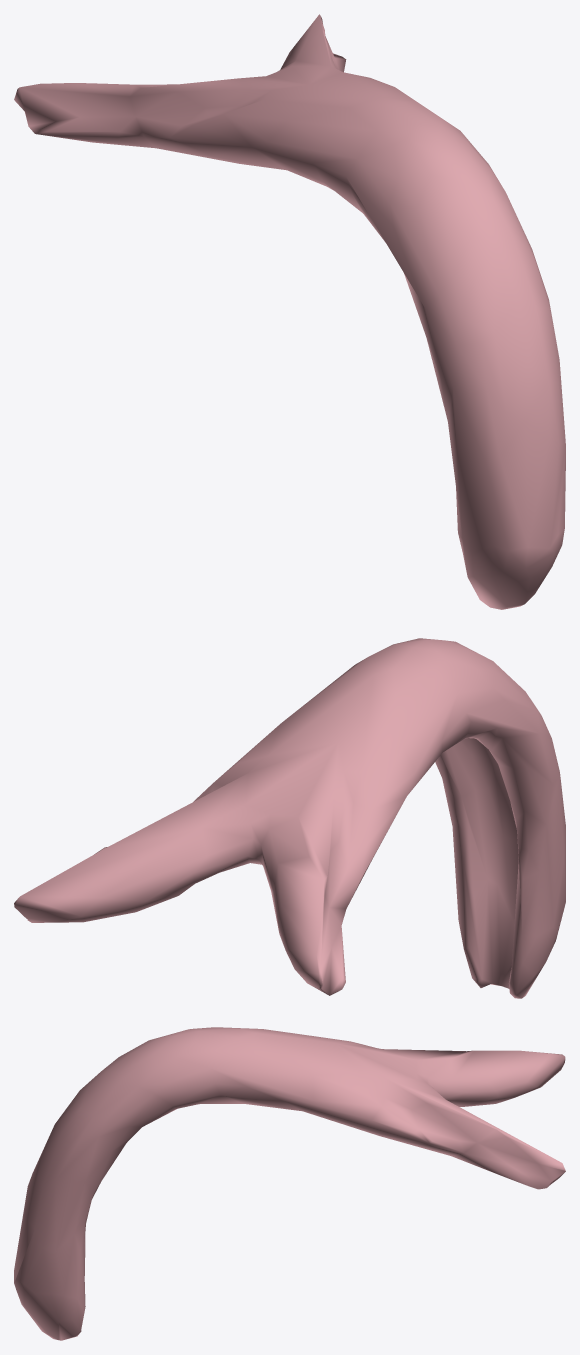
Rendered from visceras-corpus-cavernosum-of-penis.glb.
The picture shows the model from 3 angles, top to bottom: view 1: azimuth 30°, elevation 25°; view 2: azimuth 150°, elevation 25°; view 3: azimuth 270°, elevation 25°; orthographic projection. The views are drawn at different scales.
Parts seen in each view (by area): view 1: Corpus cavernosum of penis; view 2: Corpus cavernosum of penis; view 3: Corpus cavernosum of penis.
Part boxes in pixels (x1,y1,x2,y2): Corpus cavernosum of penis: (14, 14, 565, 609); Corpus cavernosum of penis: (14, 638, 565, 998); Corpus cavernosum of penis: (14, 1027, 565, 1340).
Bounding box in the file's own units: 0.0653 × 0.0828 × 0.1355.
